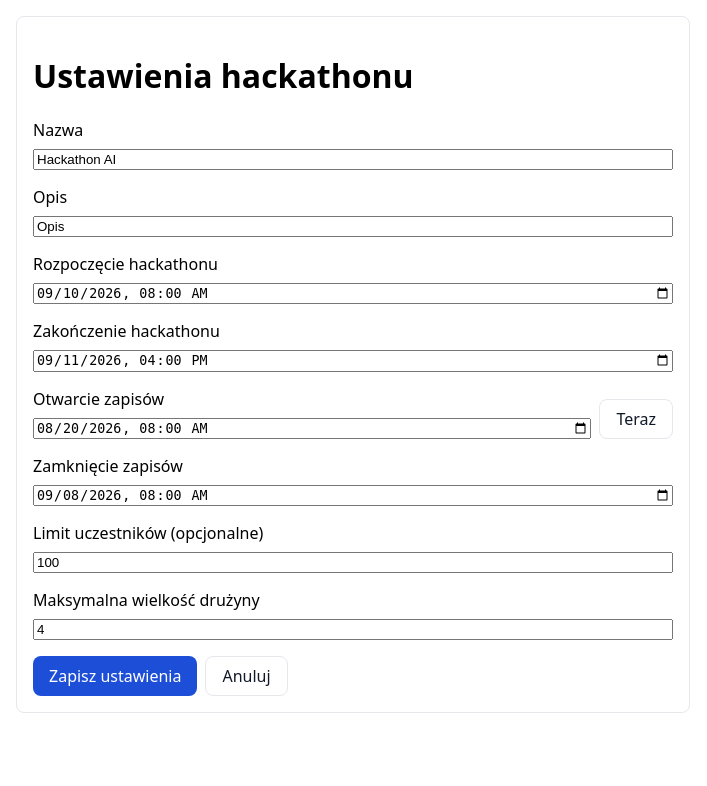
Test: EditHackathonPage › shows a specific permission error when saving
Expected: the field labelled "Nazwa" is shown, top-left (33, 149), bottom-right (673, 170)
Click the button "Zapisz ustawienia" at (115, 676), box top-left (33, 656), bottom-right (198, 696)
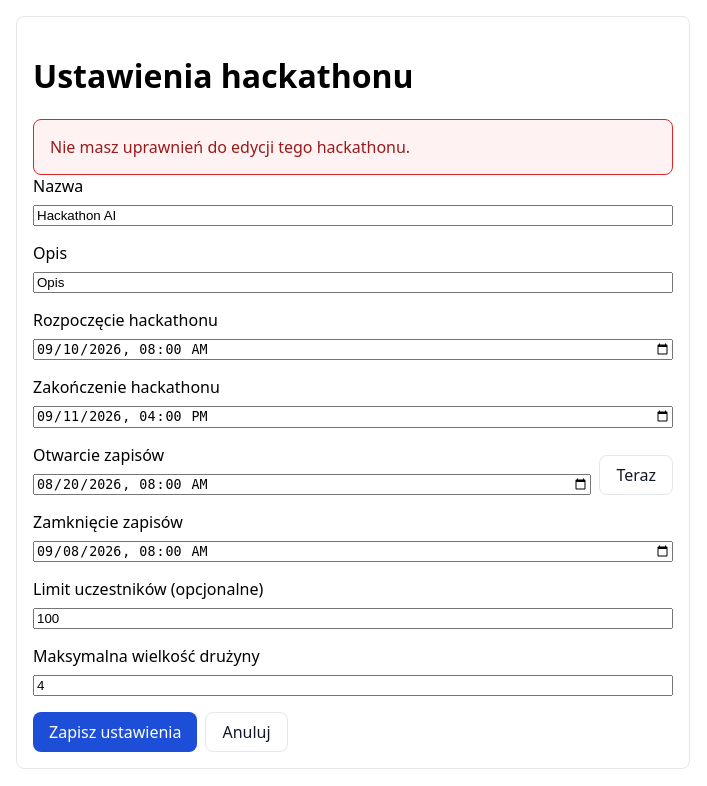
Expected: the message reads "Nie masz uprawnień do edycji tego hackathonu.", top-left (50, 136), bottom-right (410, 158)
